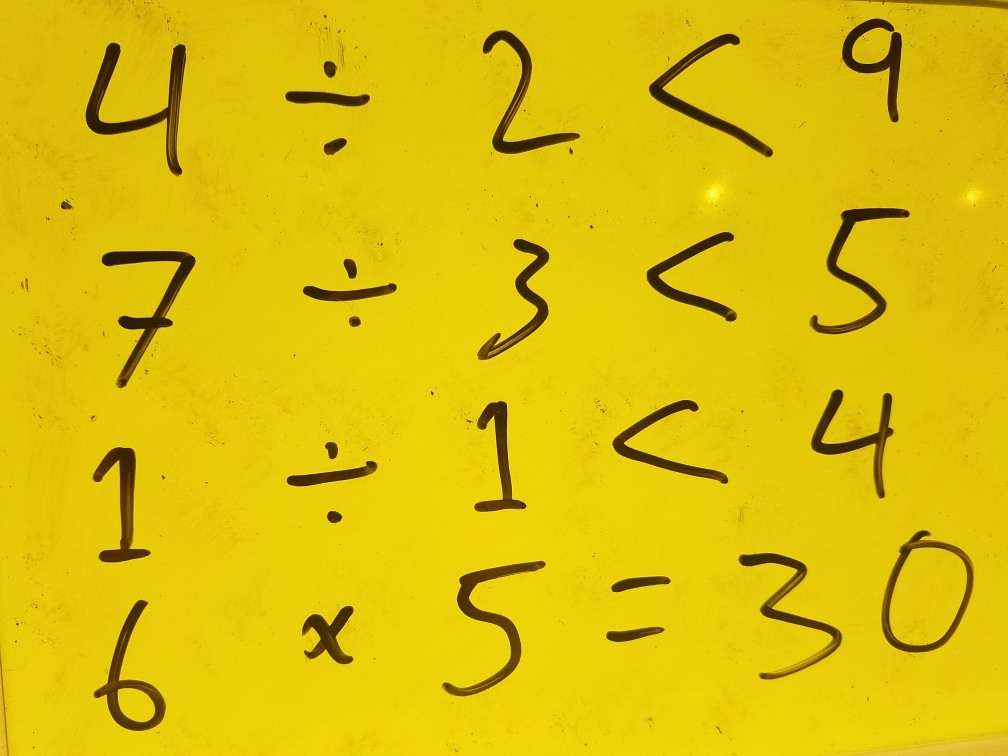0: (873, 526, 975, 662)
1: (454, 395, 552, 527), (80, 434, 164, 582)
2: (466, 22, 588, 169)
3: (727, 541, 851, 691), (475, 228, 566, 381)
4: (79, 28, 197, 187), (800, 375, 911, 506)
5: (801, 194, 923, 352), (432, 556, 550, 705)
6: (87, 598, 176, 741)
7: (87, 238, 203, 397)
9: (824, 12, 916, 134)
<: (632, 16, 781, 175), (600, 389, 747, 512), (642, 212, 751, 339)
=: (585, 568, 689, 657)
div: (277, 429, 389, 541), (275, 44, 376, 159), (276, 244, 404, 334)
x: (285, 587, 365, 677)
